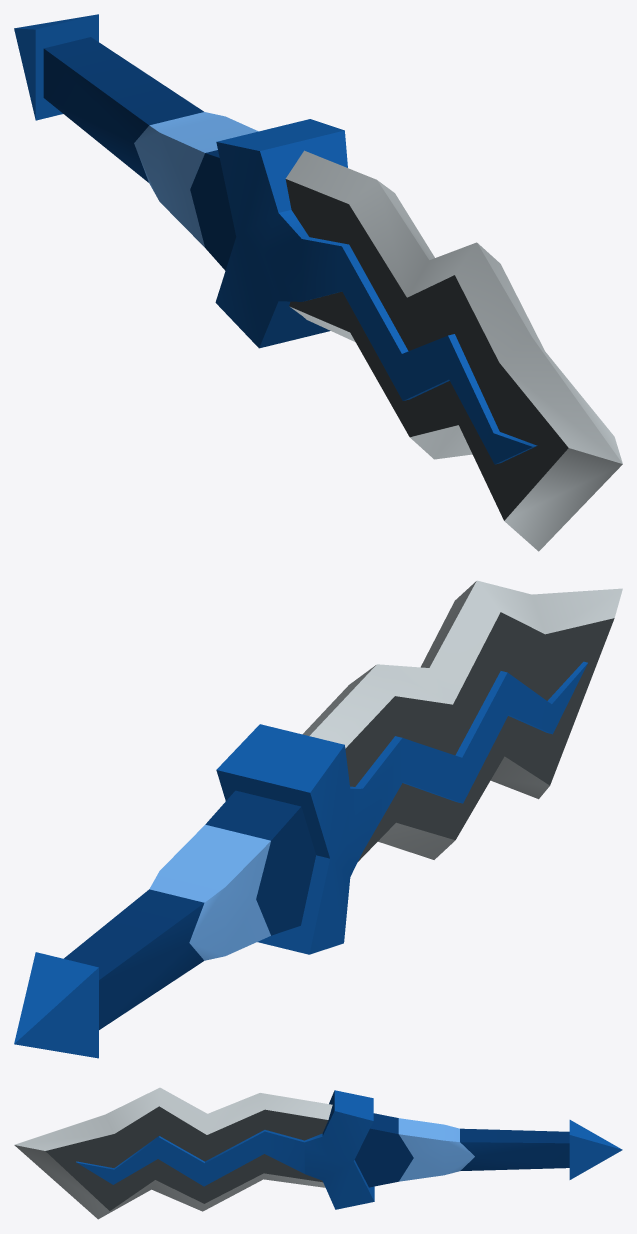
The model's file is Sword 04.FBX.
3 views of the same model, one above another, from view 1: azimuth 30°, elevation 25°; view 2: azimuth 150°, elevation 25°; view 3: azimuth 270°, elevation 25° (orthographic). The views are drawn at different scales.
Visible parts, largest first — view 1: Sword 04; view 2: Sword 04; view 3: Sword 04.
Boxes of the visible parts, x1=… form: Sword 04: x1=14, y1=14, x2=622, y2=551; Sword 04: x1=14, y1=580, x2=622, y2=1058; Sword 04: x1=14, y1=1087, x2=622, y2=1219.
Bounding box in the file's own units: 8.35 × 22.43 × 93.74.
Materials: 1 (1 with a texture image).
